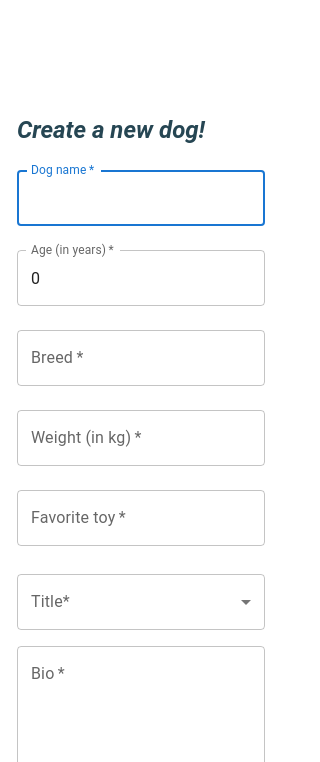
Test: Given a CreateEditForm component › When invoked and an user enters a valid dog › Then it should set the button 'Create' state to enabled'
The width and height of the screenshot is (320, 762).
In the field labelled "Dog name *": (141, 198) [17, 170, 265, 226], type "DogName"
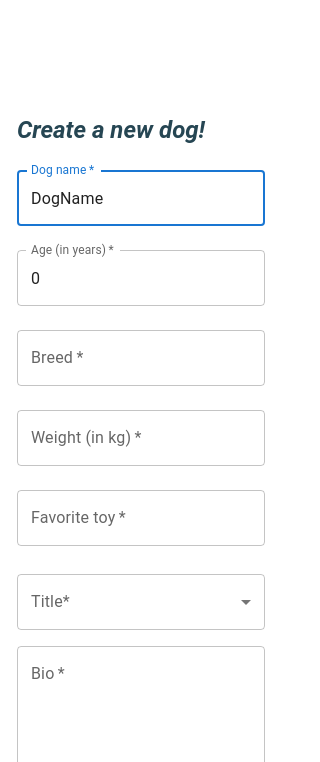
In the number field labelled "Age (in years) *": (141, 278) [17, 250, 265, 306], type "23"
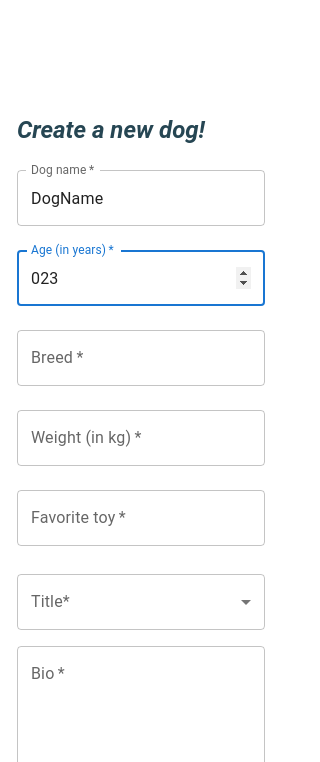
In the field labelled "Breed *": (141, 358) [17, 330, 265, 386], type "Cocker"
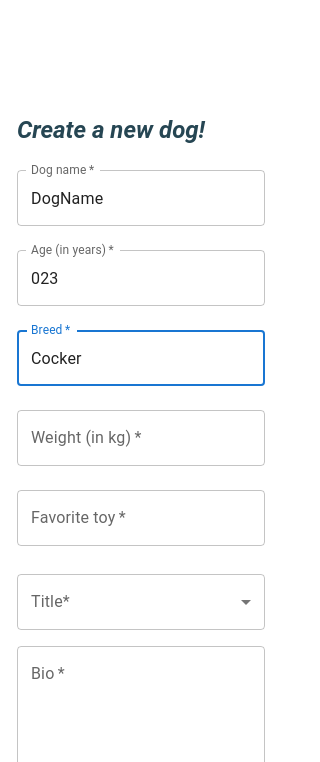
In the field labelled "Weight (in kg)": (141, 438) [17, 410, 265, 466], type "12kg"
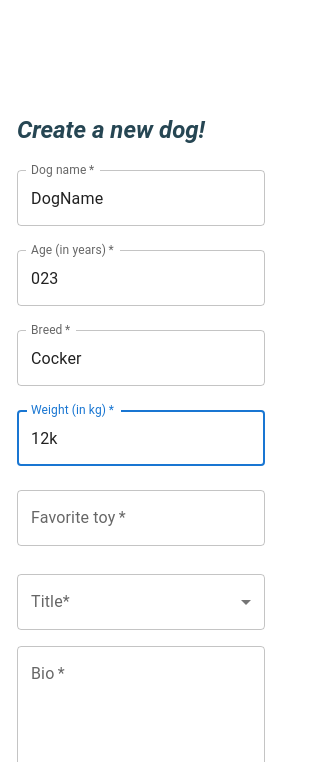
In the field labelled "Favorite toy *": (141, 518) [17, 490, 265, 546], type "asdasdasd"
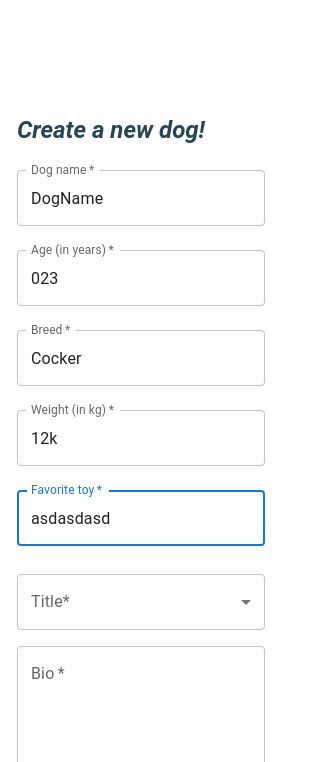
In the text box labelled "Bio *": (141, 708) [31, 662, 251, 754], type "asdasdasd"
(page scrolled)
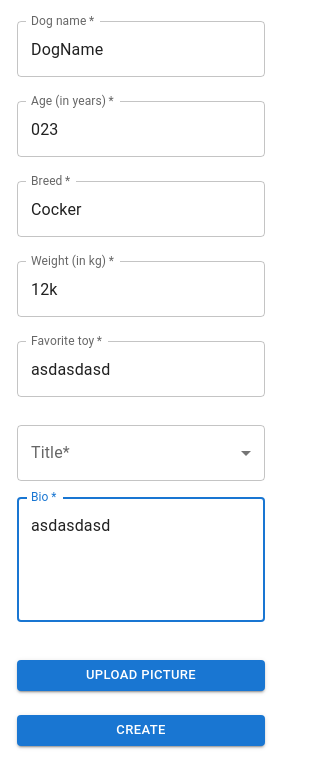
Now the button "Create" is enabled, box [17, 715, 265, 746]
